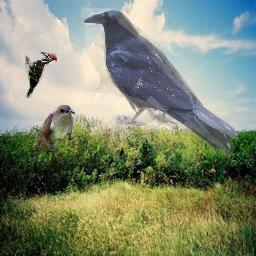Crow: (81, 8, 239, 157)
Cuckoo: (37, 105, 75, 149)
Woodpecker: (25, 52, 57, 98)
